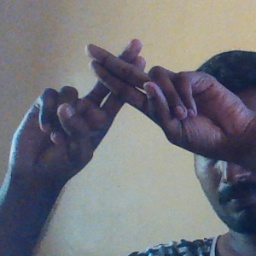F: (51, 32, 201, 151)
